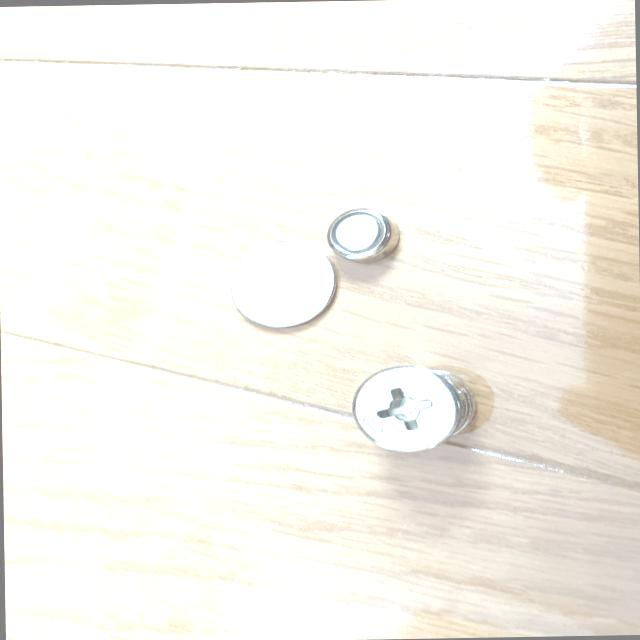COIN: (232, 238, 336, 327), (325, 206, 400, 260)
